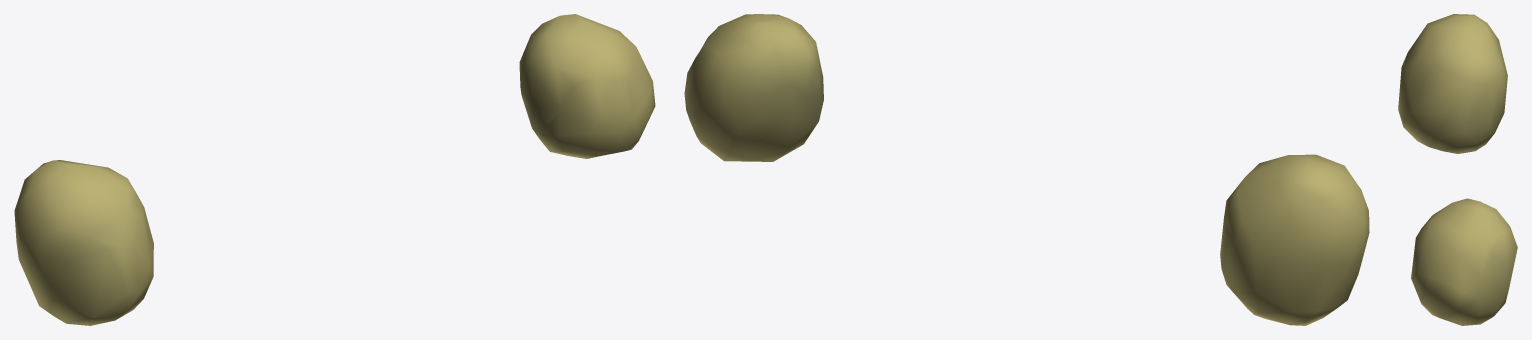
The picture shows the model from 3 angles, left to right: view 1: azimuth 30°, elevation 25°; view 2: azimuth 150°, elevation 25°; view 3: azimuth 270°, elevation 25°; orthographic projection. The views are drawn at different scales.
Parts seen in each view (by area): view 1: LOD 1_5261851821754165480_820756dedd5b3434c8e6bed8ae6a193b; view 2: LOD 1_5261851821754165480_820756dedd5b3434c8e6bed8ae6a193b; view 3: LOD 1_5261851821754165480_820756dedd5b3434c8e6bed8ae6a193b.
Part boxes in pixels (bbox=[...]): LOD 1_5261851821754165480_820756dedd5b3434c8e6bed8ae6a193b: bbox=[14, 14, 655, 325]; LOD 1_5261851821754165480_820756dedd5b3434c8e6bed8ae6a193b: bbox=[684, 14, 1369, 325]; LOD 1_5261851821754165480_820756dedd5b3434c8e6bed8ae6a193b: bbox=[1398, 14, 1517, 325].
Bounding box in the file's own units: 1.17 × 0.2969 × 0.2405.
